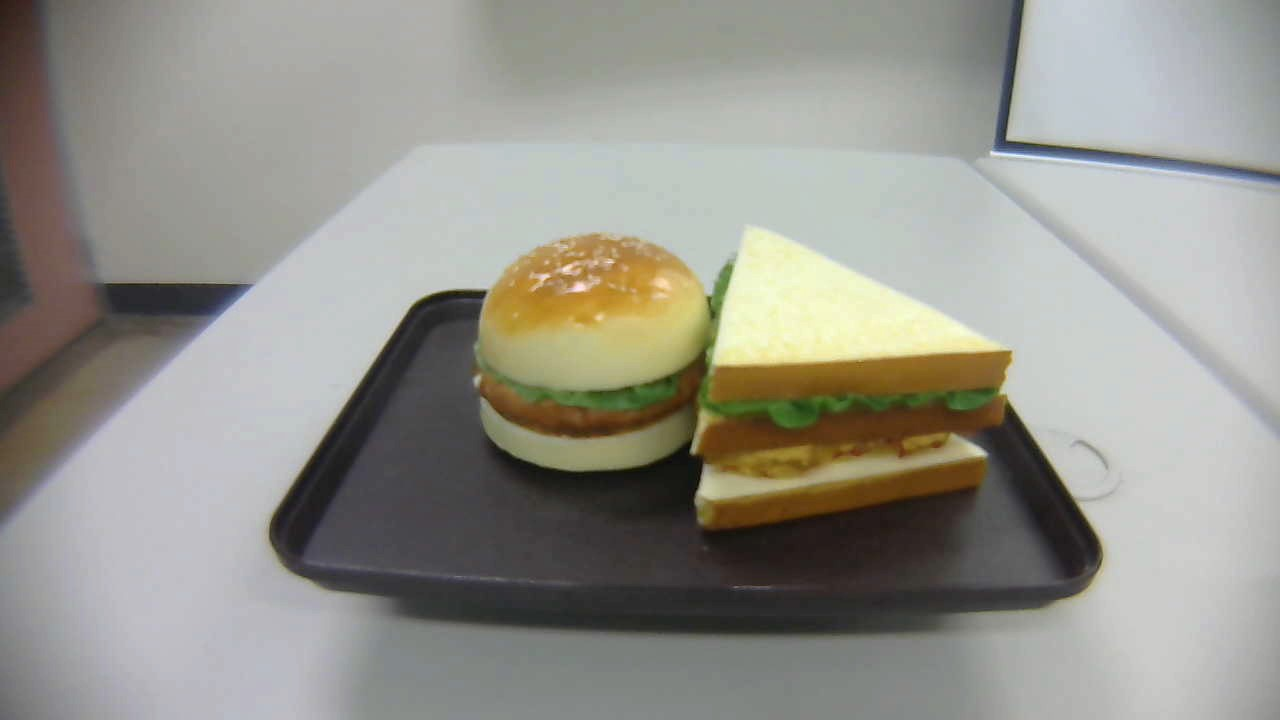hamburger: (470, 231, 712, 472)
sandwich: (690, 222, 1011, 527)
